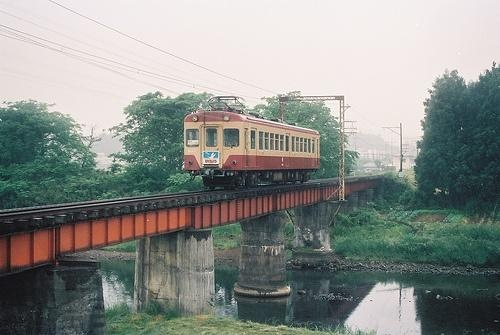train: (180, 104, 326, 192)
